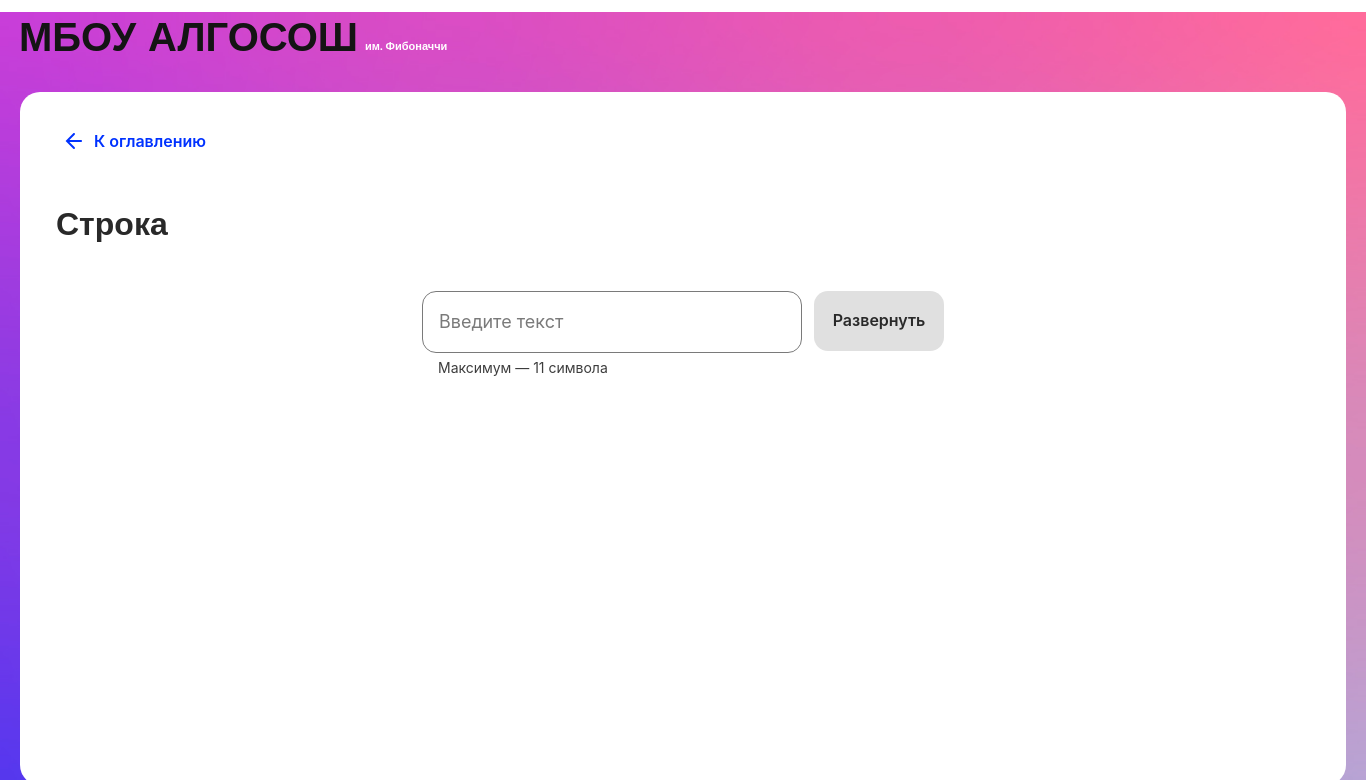
Test case: String Component › should correctly expand a string with an even number of characters
Type "abcd" into the field with test id "input" at (612, 322), box [422,291,802,353]
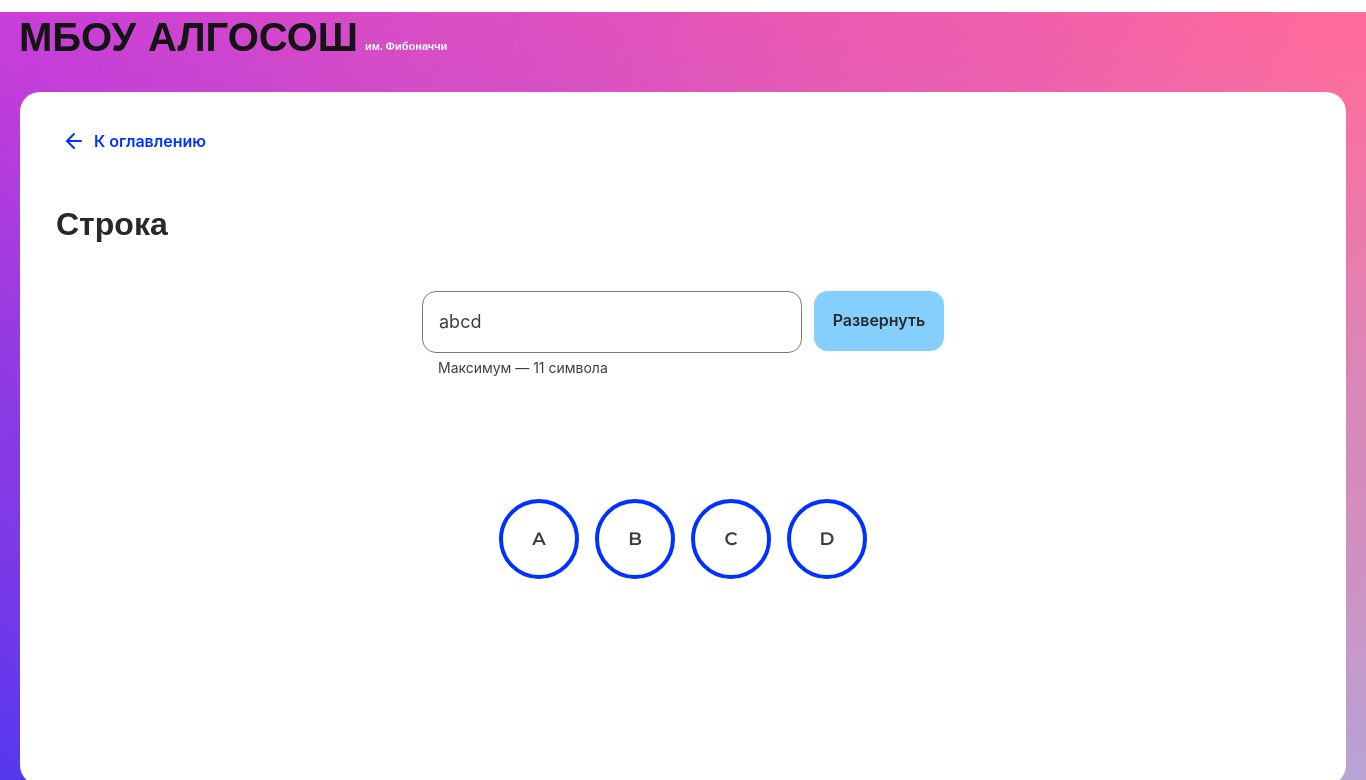
Click the button with test id "reverse-button" at (879, 321), box [814,291,944,351]
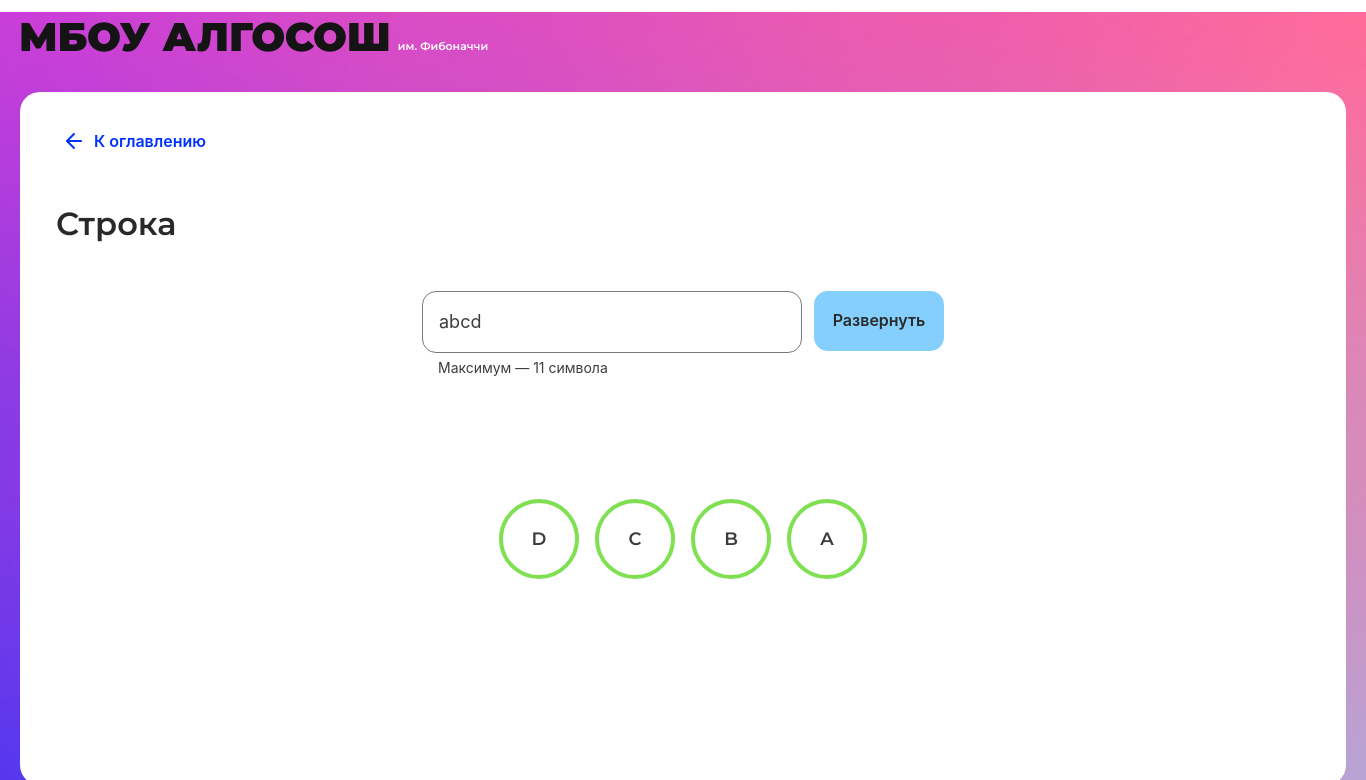
Expected: the element with test id "circle-0" reads "d", [532,528,546,550]
Expected: the element with test id "circle-1" reads "c", [628,528,641,550]
Expected: the element with test id "circle-2" reads "b", [724,528,738,550]
